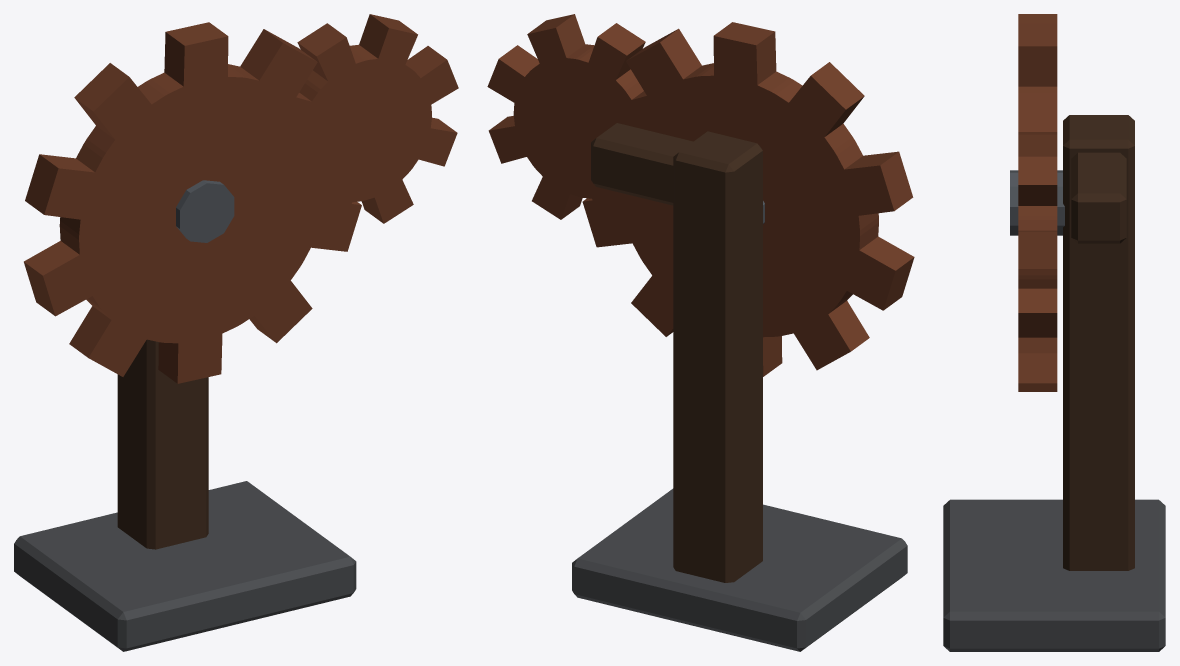
Rendered from gearpost.glb.
The picture shows the model from 3 angles, left to right: view 1: azimuth 30°, elevation 25°; view 2: azimuth 150°, elevation 25°; view 3: azimuth 270°, elevation 25°; orthographic projection. The views are drawn at different scales.
Parts seen in each view (by area): view 1: GearPost; view 2: GearPost; view 3: GearPost.
Part boxes in pixels (x1=…): GearPost: x1=14, y1=14, x2=458, y2=651; GearPost: x1=487, y1=14, x2=914, y2=651; GearPost: x1=943, y1=14, x2=1165, y2=651.
Size of the model in its own units: 0.872 by 1.12 by 0.4.
